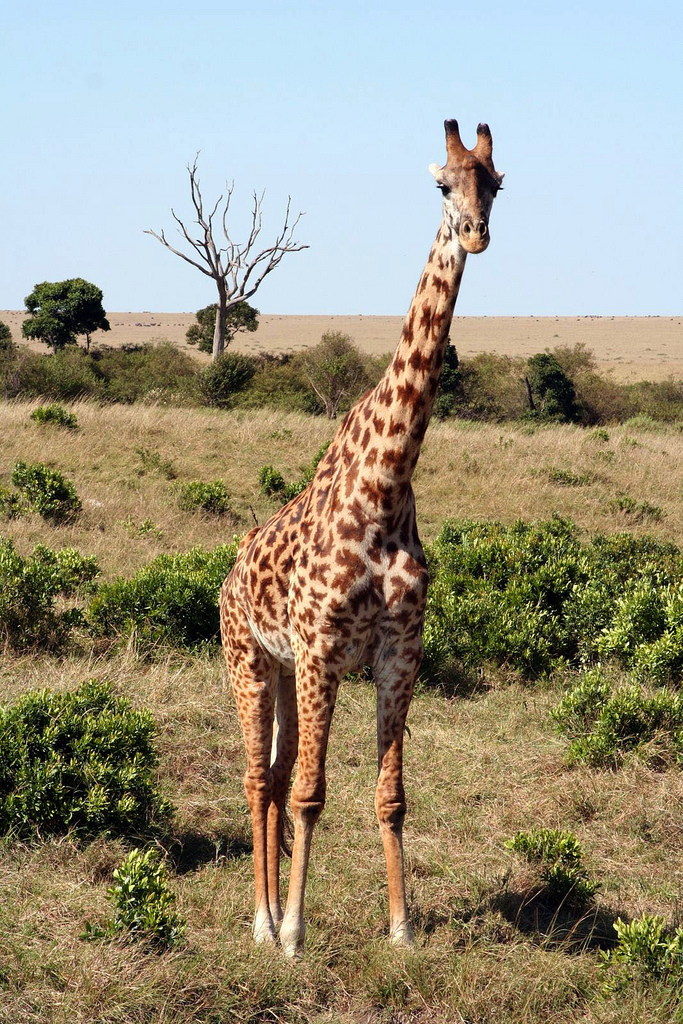giraffe: (209, 99, 550, 981)
